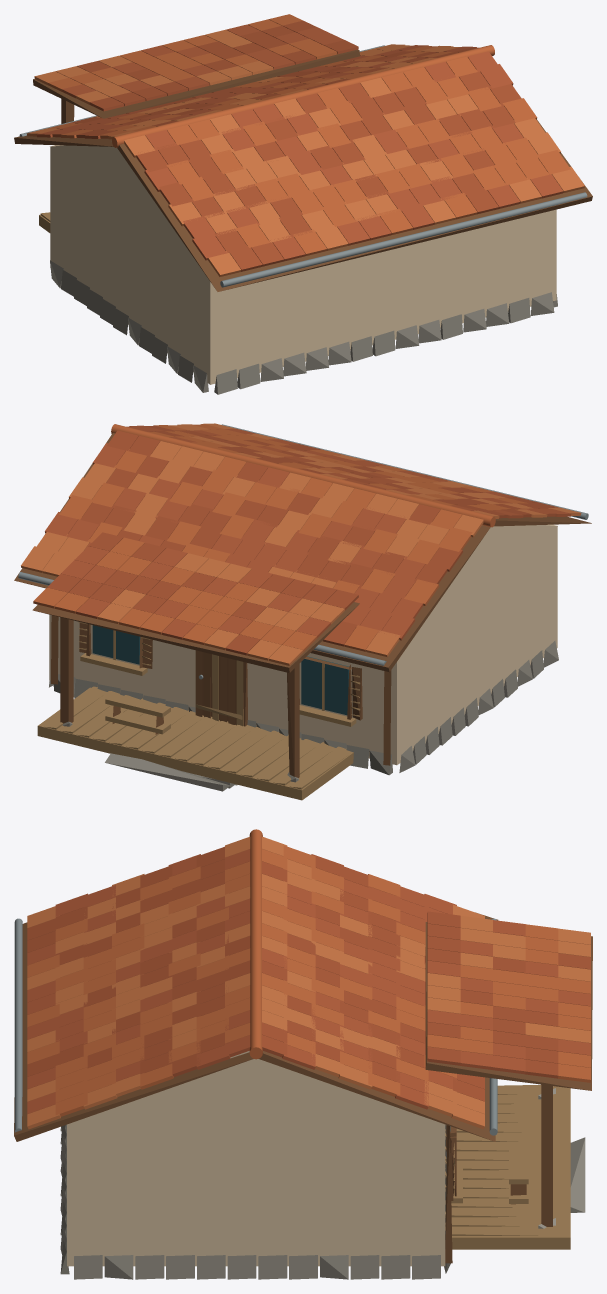
The model's file is casa.glb.
3 views of the same model, one above another, from view 1: azimuth 30°, elevation 25°; view 2: azimuth 150°, elevation 25°; view 3: azimuth 270°, elevation 25° (orthographic). The views are drawn at different scales.
Parts seen in each view (by area): view 1: CasaCOMPACTA_Casa | reboco antigo, CasaTELHA_racota 1, CasaTELHA_racota 0, CasaTELHA_racota 3, CasaTELHA_racota 2, CasaCOMPACTA_Casa | pedra da fundação., CasaCOMPACTA_Casa | madeira de jatobá, CasaCOMPACTA_Galpao_chapa_REST; view 2: CasaCOMPACTA_Casa | reboco antigo, CasaTELHA_racota 1, CasaTELHA_racota 0, CasaTELHA_racota 3, CasaTELHA_racota 2, CasaCOMPACTA_Casa | madeira gasta.001, CasaCOMPACTA_Casa | madeira de jatobá, CasaCOMPACTA_Casa | pedra da fundação., CasaCOMPACTA_Casa | vidro refletivo, CasaCOMPACTA_Galpao_chapa_REST; view 3: CasaCOMPACTA_Casa | reboco antigo, CasaTELHA_racota 1, CasaTELHA_racota 0, CasaTELHA_racota 3, CasaTELHA_racota 2, CasaCOMPACTA_Casa | madeira gasta.001, CasaCOMPACTA_Casa | madeira de jatobá, CasaCOMPACTA_Casa | pedra da fundação., CasaCOMPACTA_Galpao_chapa_REST.
Boxes of the visible parts, left/top/right/bottom form: CasaCOMPACTA_Casa | reboco antigo: left=50, top=141, right=556, bottom=384; CasaTELHA_racota 1: left=48, top=14, right=570, bottom=255; CasaTELHA_racota 0: left=70, top=20, right=521, bottom=271; CasaTELHA_racota 3: left=26, top=29, right=584, bottom=276; CasaTELHA_racota 2: left=36, top=24, right=563, bottom=261; CasaCOMPACTA_Casa | pedra da fundação.: left=50, top=260, right=557, bottom=394; CasaCOMPACTA_Casa | madeira de jatobá: left=14, top=49, right=592, bottom=291; CasaCOMPACTA_Galpao_chapa_REST: left=19, top=45, right=587, bottom=287; CasaCOMPACTA_Casa | reboco antigo: left=49, top=524, right=557, bottom=765; CasaTELHA_racota 1: left=33, top=424, right=527, bottom=651; CasaTELHA_racota 0: left=47, top=426, right=558, bottom=655; CasaTELHA_racota 3: left=21, top=423, right=581, bottom=665; CasaTELHA_racota 2: left=45, top=425, right=571, bottom=640; CasaCOMPACTA_Casa | madeira gasta.001: left=37, top=621, right=360, bottom=800; CasaCOMPACTA_Casa | madeira de jatobá: left=14, top=433, right=591, bottom=777; CasaCOMPACTA_Casa | pedra da fundação.: left=49, top=640, right=558, bottom=791; CasaCOMPACTA_Casa | vidro refletivo: left=92, top=625, right=349, bottom=715; CasaCOMPACTA_Galpao_chapa_REST: left=18, top=424, right=588, bottom=679; CasaCOMPACTA_Casa | reboco antigo: left=67, top=1051, right=445, bottom=1266; CasaTELHA_racota 1: left=27, top=829, right=590, bottom=1116; CasaTELHA_racota 0: left=27, top=846, right=590, bottom=1101; CasaTELHA_racota 3: left=27, top=836, right=590, bottom=1129; CasaTELHA_racota 2: left=27, top=849, right=590, bottom=1113; CasaCOMPACTA_Casa | madeira gasta.001: left=445, top=1085, right=570, bottom=1249; CasaCOMPACTA_Casa | madeira de jatobá: left=14, top=912, right=592, bottom=1263; CasaCOMPACTA_Casa | pedra da fundação.: left=60, top=1088, right=585, bottom=1279; CasaCOMPACTA_Galpao_chapa_REST: left=14, top=918, right=497, bottom=1135.
Size of the model in its own units: 10.9 by 5.73 by 12.24.
